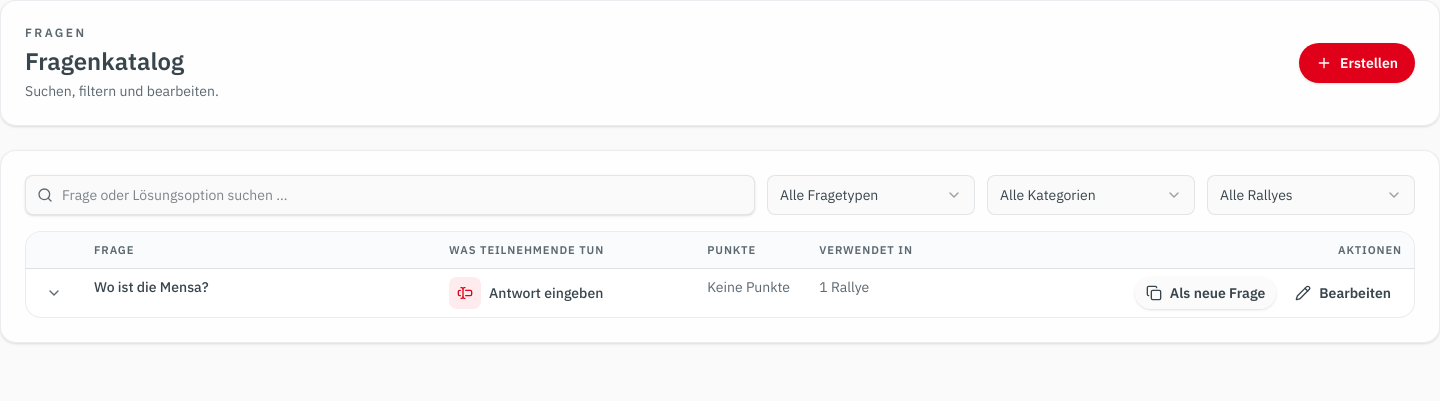
Scenario: QuestionsManagement › offers retry for a question result failure with the same filters
Type "Mensa" into the search field. click: (390, 195)
box: [25,175,755,215]
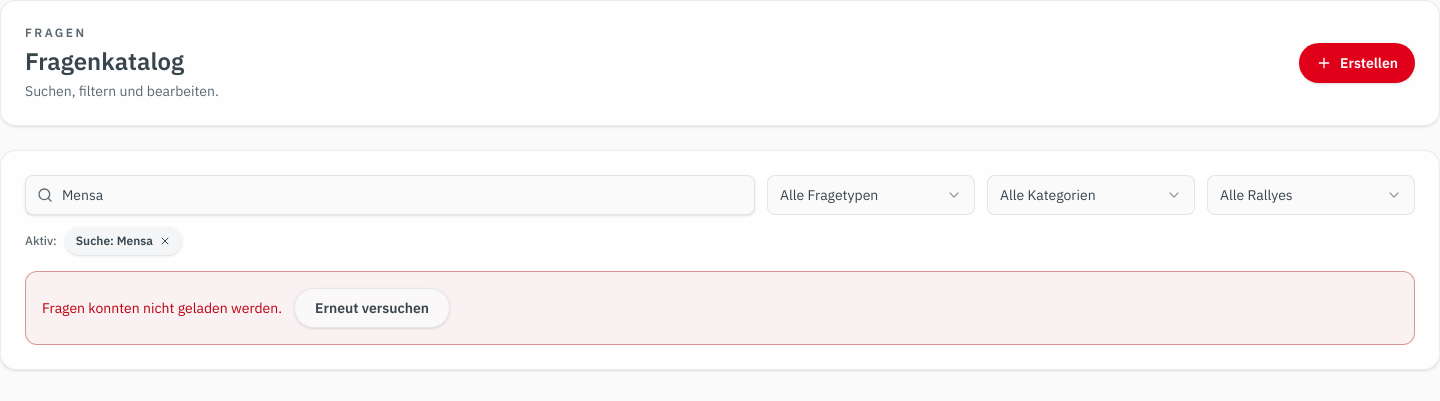
Check: the message reads "Fragen konnten nicht geladen werden.", box [42,299,282,317]
Check: the table is gone
Click the button "Erneut versuchen". click: (372, 308)
box: [294,288,450,328]
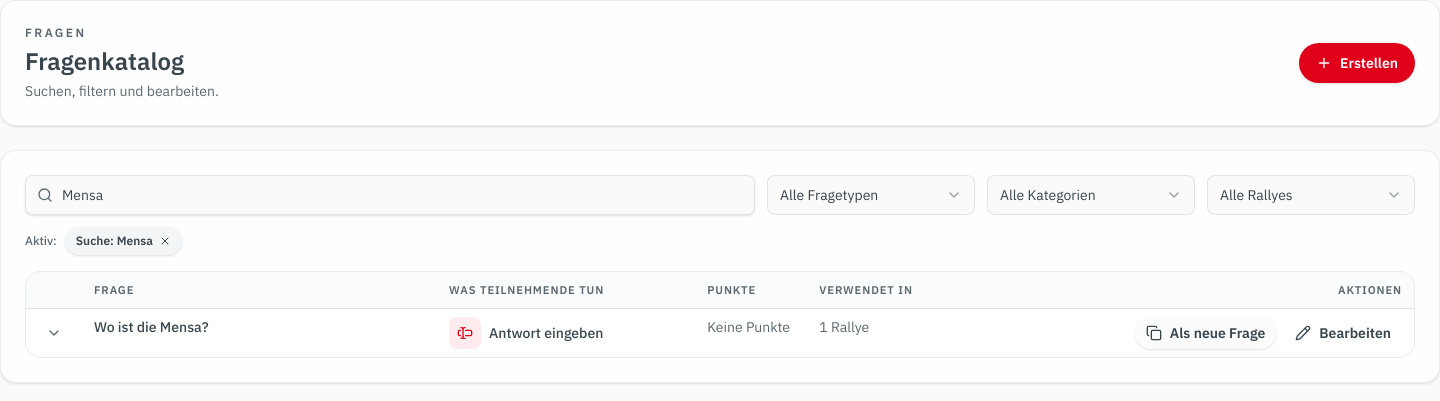
Check: the text "Wo ist die Mensa?" is shown, box [94,318,209,336]
Check: the message "Fragen konnten nicht geladen werden." is gone
